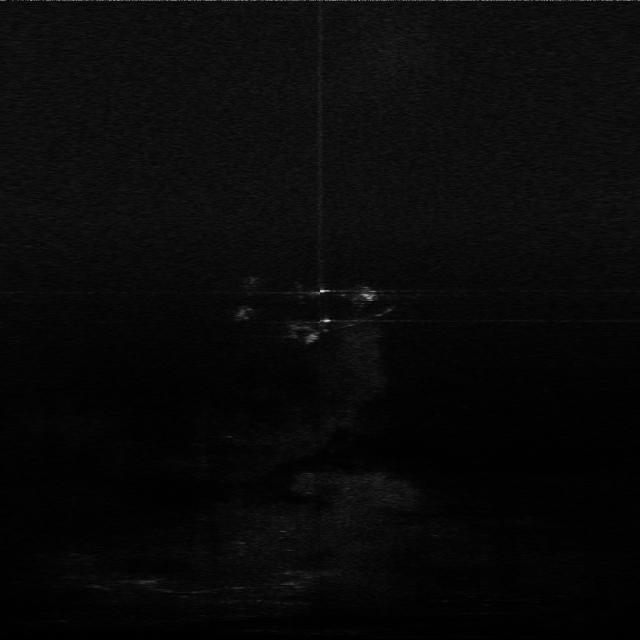rov: (354, 287, 382, 304)
